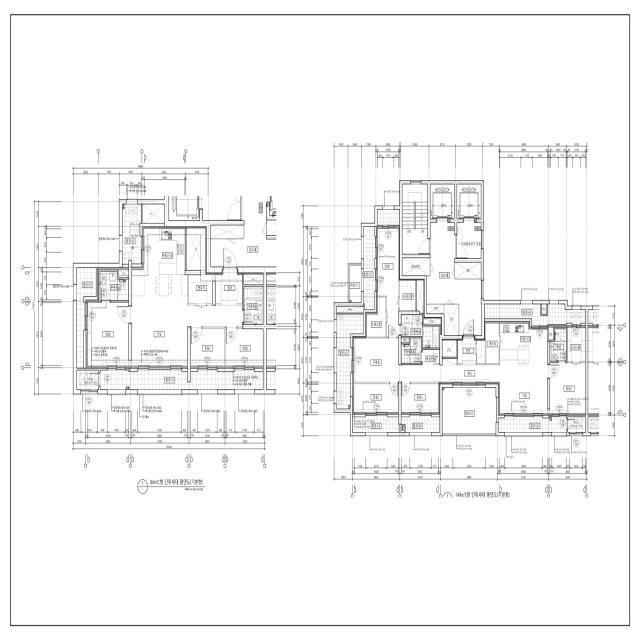space_balconi: (100, 370, 263, 389), (337, 315, 364, 409), (442, 388, 496, 434), (485, 304, 585, 326), (77, 268, 96, 368), (499, 417, 585, 433), (122, 204, 141, 264), (364, 227, 375, 310), (353, 416, 399, 432), (401, 416, 440, 432), (349, 265, 361, 302), (377, 210, 399, 225)
space_bedroom: (86, 300, 129, 368), (376, 227, 399, 337), (550, 363, 585, 415), (226, 329, 263, 368), (353, 384, 398, 414), (191, 329, 224, 368), (401, 384, 440, 414)
space_dressroom: (366, 297, 386, 337), (568, 326, 586, 361), (400, 280, 416, 311)
space_elevator: (430, 184, 454, 219), (457, 184, 481, 219), (169, 196, 199, 221), (270, 196, 276, 215)
space_elevator_hall: (427, 223, 482, 336), (203, 196, 276, 267)
space_front: (216, 269, 242, 303), (458, 336, 485, 365)
space_kitchen: (132, 227, 188, 305), (500, 322, 547, 365)
space_living_room: (353, 337, 548, 415), (132, 305, 242, 368)
space_other: (186, 227, 206, 270), (189, 273, 213, 304), (402, 258, 430, 276), (444, 304, 459, 336), (455, 262, 481, 279), (77, 370, 99, 390), (211, 225, 244, 238), (143, 204, 164, 224), (442, 339, 457, 357), (417, 280, 424, 313), (244, 273, 263, 285), (337, 306, 364, 313), (427, 304, 444, 314), (267, 220, 276, 235), (424, 318, 441, 325), (119, 268, 129, 277), (549, 326, 553, 340), (542, 304, 547, 314), (401, 331, 409, 336)
space_staircase: (402, 184, 428, 254)
space_toilet: (401, 315, 439, 348), (401, 338, 440, 365), (100, 272, 129, 300), (244, 287, 263, 324), (550, 329, 566, 361)
